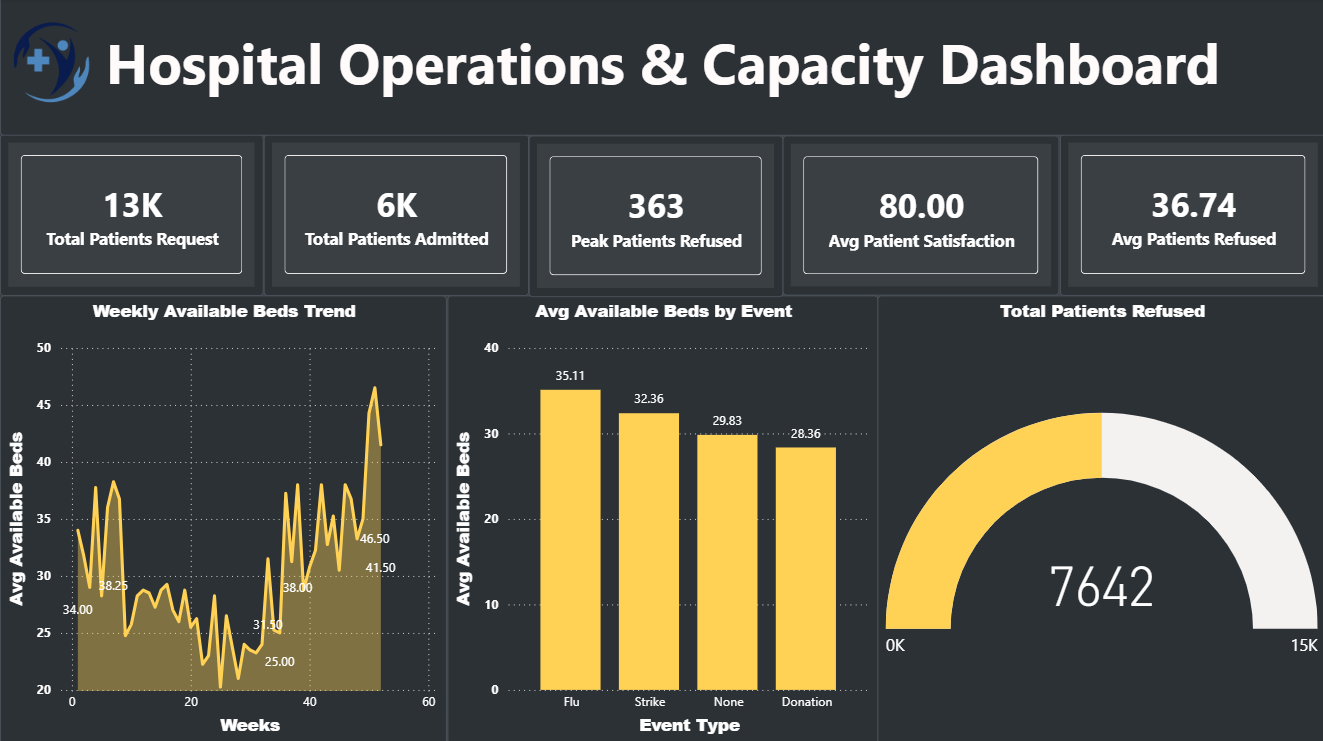

The dashboard page shown, as its layout file describes it:
{"tool":"powerbi","page":{"name":"Capacity","canvas":[1280,720],"ordinal":1},"visuals":[{"type":"stackedAreaChart","title":"Weekly Available Beds Trend","fields":{"Category":["services_weekly.week"],"Y":["Avg(services_weekly.available_beds)"]},"box":[0,287.1,431.4,432.9],"z":0},{"type":"cardVisual","fields":{"Data":["Sum(services_weekly.patients_admitted)"]},"box":[254.3,131.4,255.7,155.7],"z":1000},{"type":"cardVisual","fields":{"Data":["Sum(services_weekly.patients_request)"]},"box":[0,131.4,254.3,155.7],"z":2000},{"type":"clusteredColumnChart","title":"Avg Available Beds by Event","fields":{"Category":["services_weekly.event"],"Y":["Avg(services_weekly.available_beds)"]},"box":[431.4,287.1,415.7,432.9],"z":3000},{"type":"cardVisual","fields":{"Data":["Avg(services_weekly.patient_satisfaction)"]},"box":[755.7,132.9,267.1,154.3],"z":4000},{"type":"cardVisual","fields":{"Data":["Avg(services_weekly.patients_refused)"]},"box":[1022.9,131.4,257.1,155.7],"z":5000},{"type":"cardVisual","fields":{"Data":["Max(services_weekly.patients_refused)"]},"box":[510,132.9,245.7,155.7],"z":6000},{"type":"gauge","fields":{"Y":["Sum(services_weekly.patients_refused)"]},"box":[847.1,287.1,432.9,432.9],"z":7000},{"type":"textbox","box":[0,0,1280,132.9],"z":8000},{"type":"image","box":[0,0,100,121.4],"z":9000}]}

Visuals, with their boxes in screenshot pixels (x1, y1, x2, y2), scaled from the page's 1280x720 canvas onto the 1323x741 screenshot:
"Weekly Available Beds Trend" stackedAreaChart: rect(0, 295, 446, 740)
cardVisual - Sum(services_weekly.patients_admitted): rect(263, 135, 527, 295)
cardVisual - Sum(services_weekly.patients_request): rect(0, 135, 263, 295)
"Avg Available Beds by Event" clusteredColumnChart: rect(446, 295, 876, 740)
cardVisual - Avg(services_weekly.patient_satisfaction): rect(781, 137, 1057, 296)
cardVisual - Avg(services_weekly.patients_refused): rect(1057, 135, 1322, 295)
cardVisual - Max(services_weekly.patients_refused): rect(527, 137, 781, 297)
gauge - Sum(services_weekly.patients_refused): rect(876, 295, 1322, 740)
textbox: rect(0, 0, 1322, 137)
image: rect(0, 0, 103, 125)
